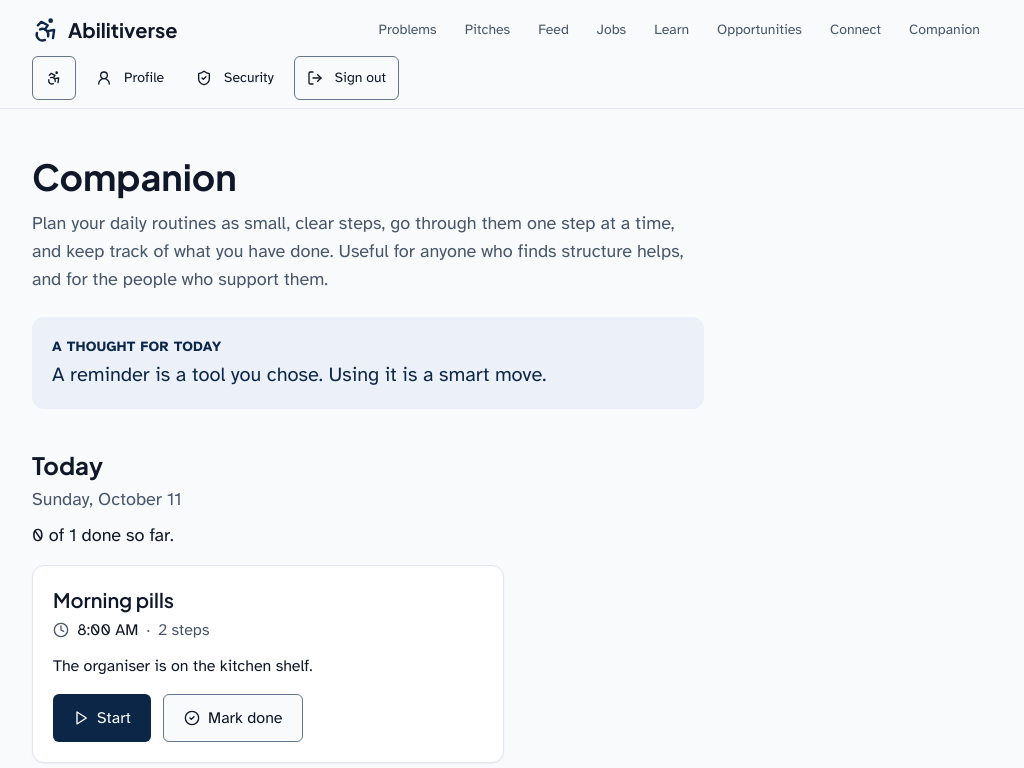
Test: Companion page › guides through the steps one at a time with focus on each step
Click the button named "Start Morning pills": (102, 718) [53, 694, 151, 742]
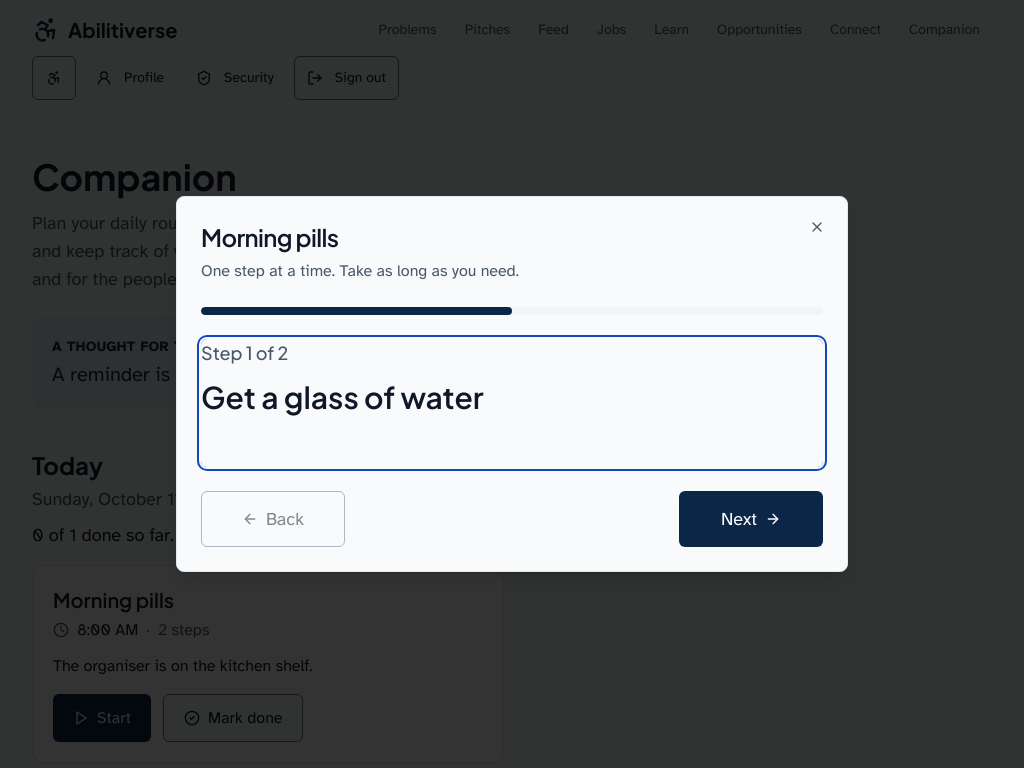
Now the heading "Step 1 of 2 Get a glass of water" is shown, box [201, 339, 823, 467]
Click the button "Next": (751, 519) [679, 491, 823, 547]
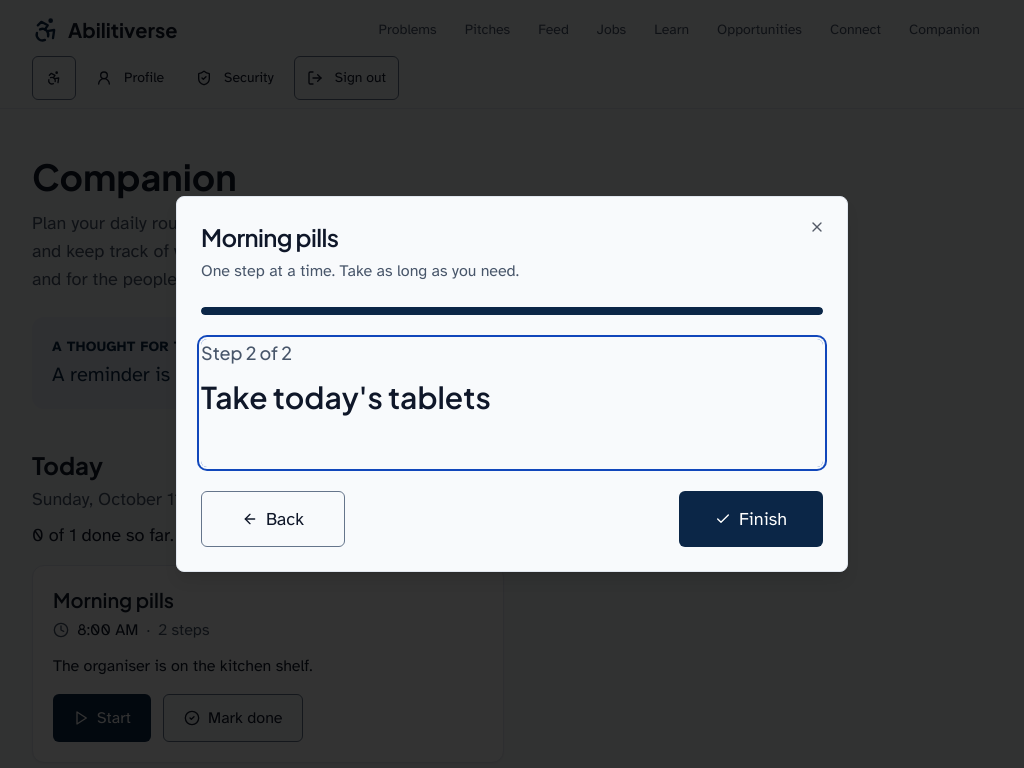
Now the heading "Step 2 of 2 Take today's tablets" is shown, box [201, 339, 823, 467]
Click the button "Finish": (751, 519) [679, 491, 823, 547]
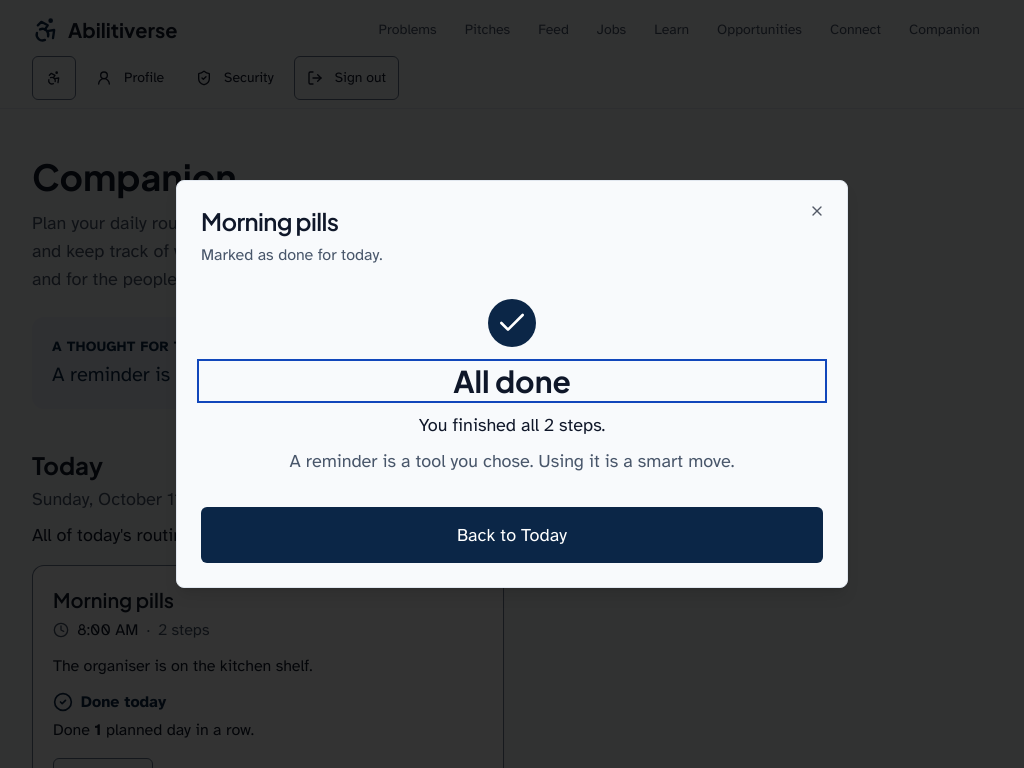
Click the button "Back to Today": (512, 535) [201, 507, 823, 563]
(page scrolled)
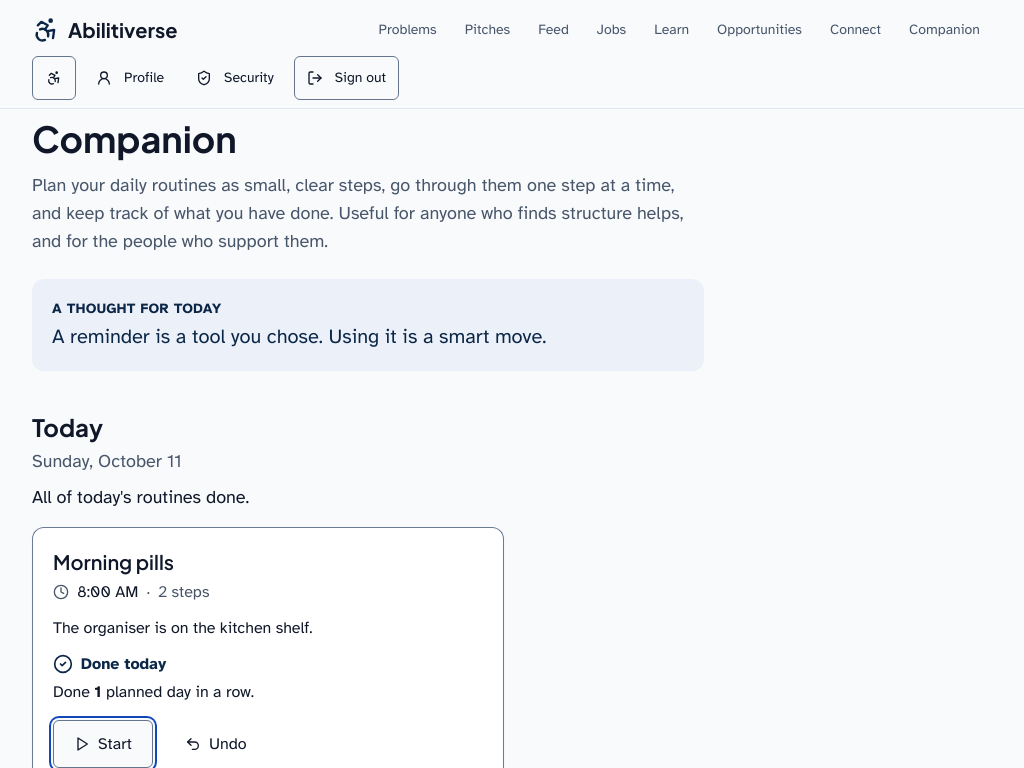
Now the dialog is gone
